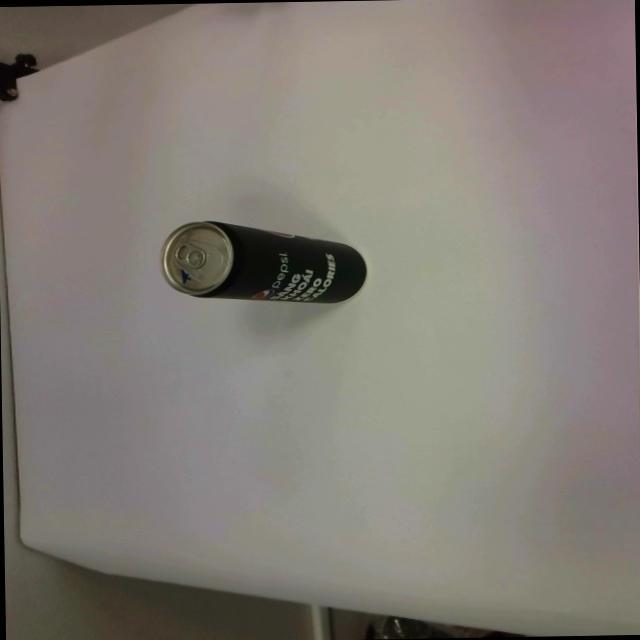debris: (158, 216, 368, 306)
